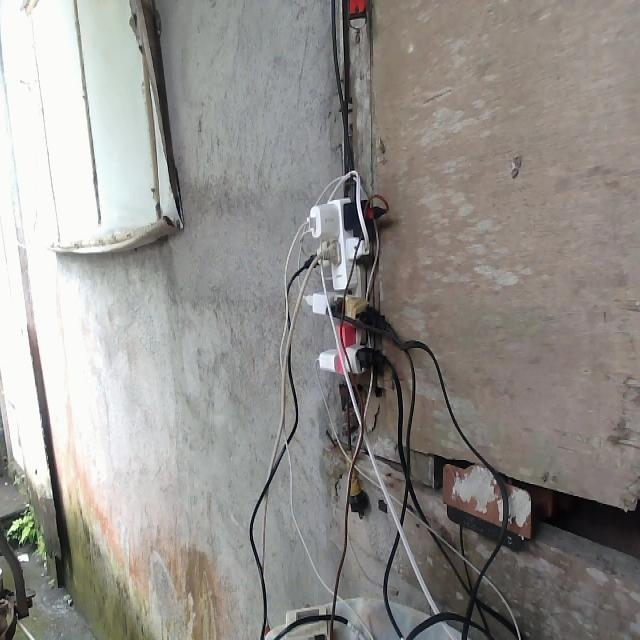-: (298, 194, 392, 374)
